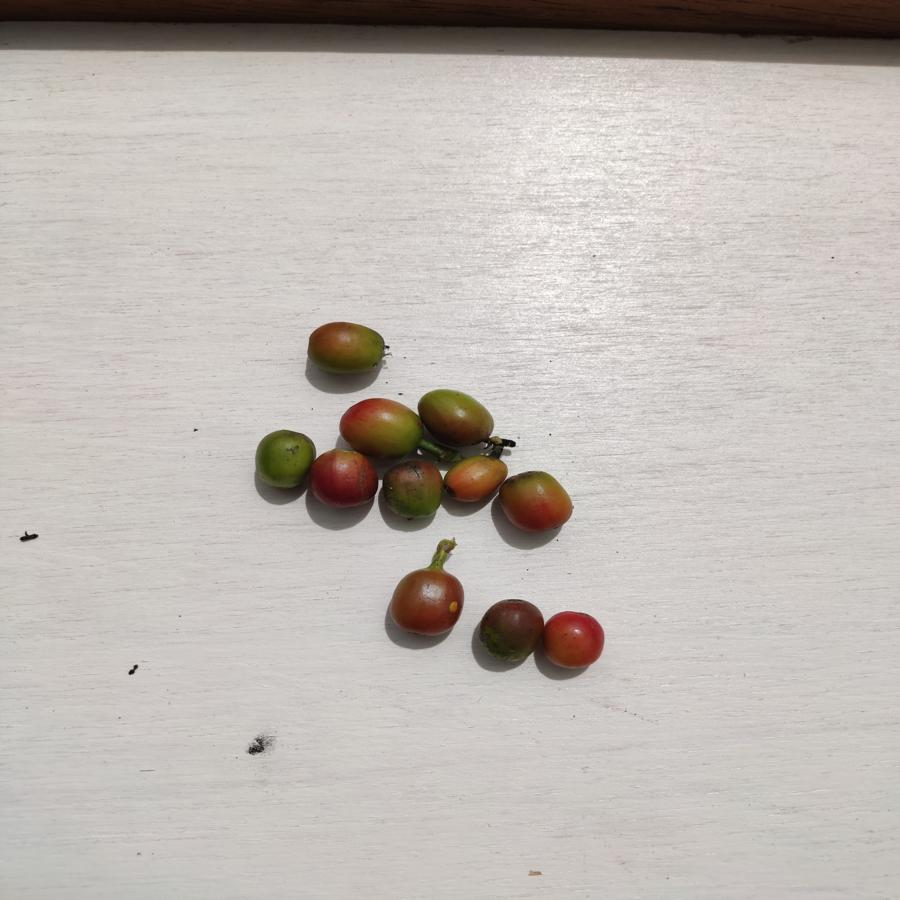Inmaduro: (252, 426, 313, 489)
Maduro: (308, 452, 378, 508), (541, 610, 606, 670)
Pinton: (335, 396, 426, 459), (389, 569, 464, 638), (498, 471, 574, 532), (417, 389, 493, 446), (307, 321, 386, 375), (381, 461, 444, 518), (444, 452, 507, 507)
Sobremaduro: (479, 599, 543, 664)
